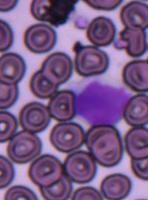L: (72, 75, 132, 126)
